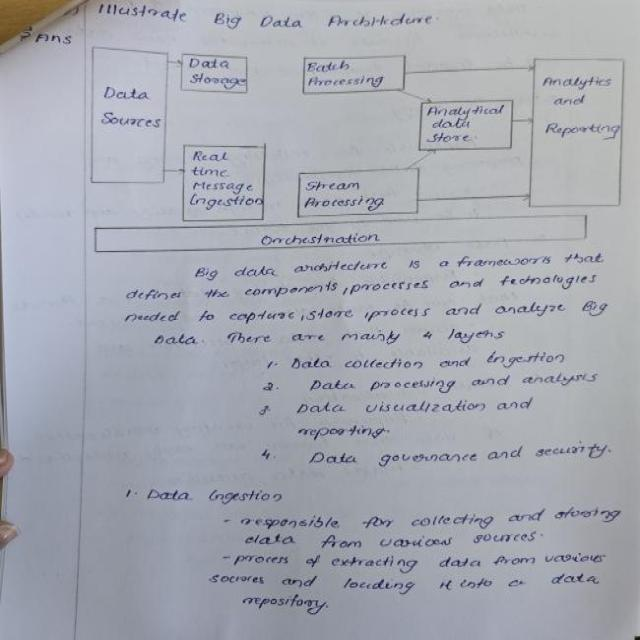Figure Detection - v3 Dataset Version2: (79, 34, 640, 260)
